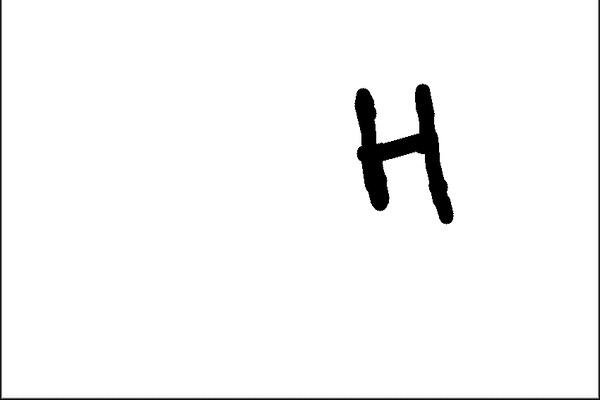H: (347, 78, 458, 228)
